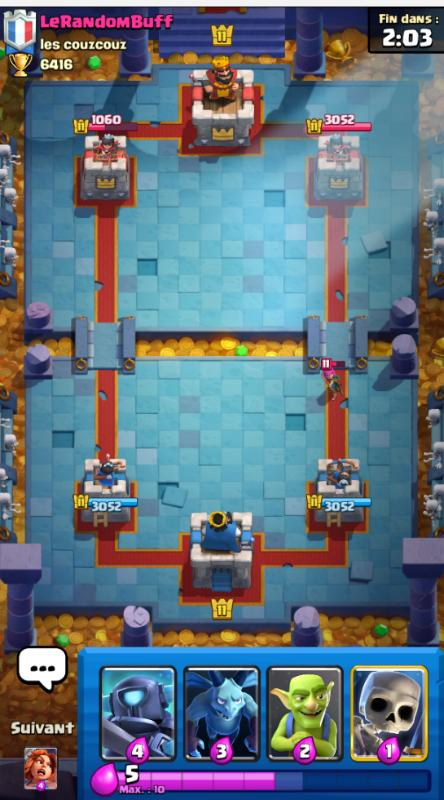archere: (315, 349, 349, 400)
